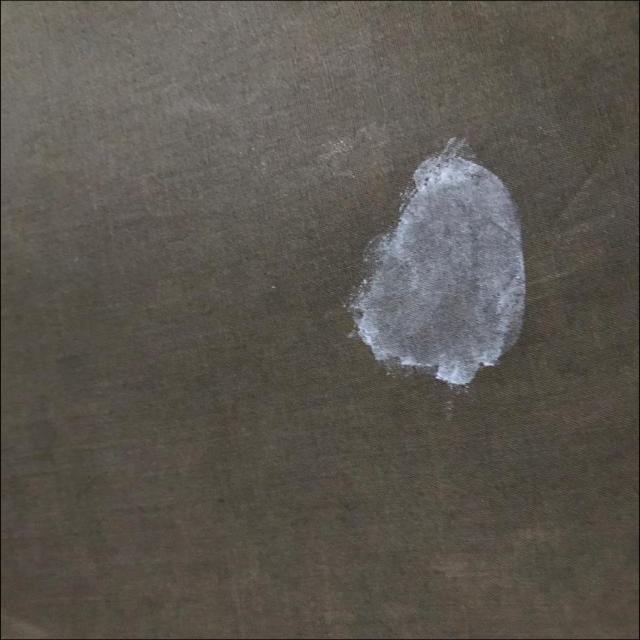Stain: (349, 137, 525, 385)
